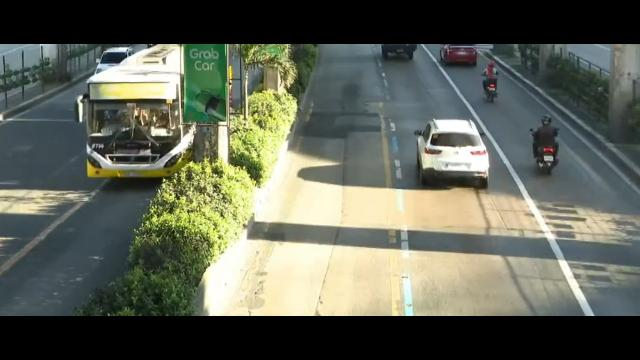bus: (79, 44, 188, 185)
car: (414, 119, 489, 188), (93, 47, 134, 80)
motorcycle: (531, 116, 558, 176), (482, 62, 501, 103)
